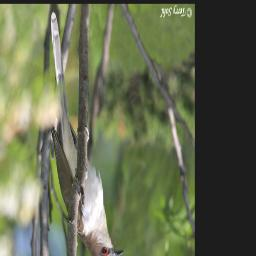Cuckoo: (50, 9, 125, 256)
